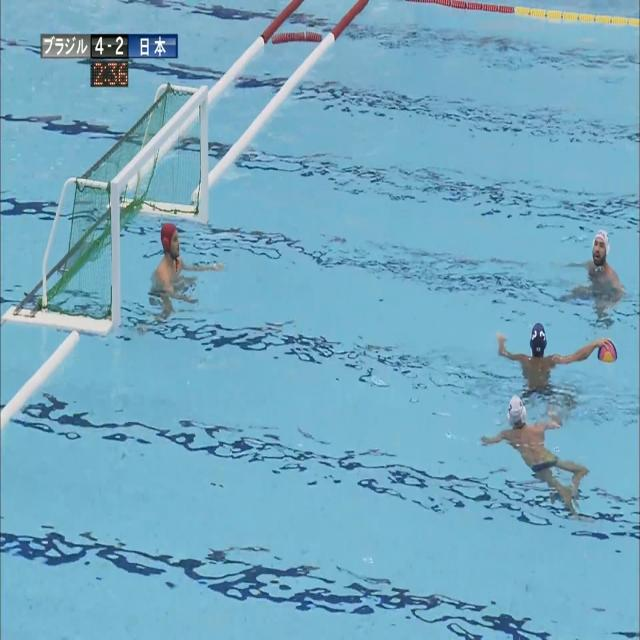ball: (597, 340, 617, 362)
